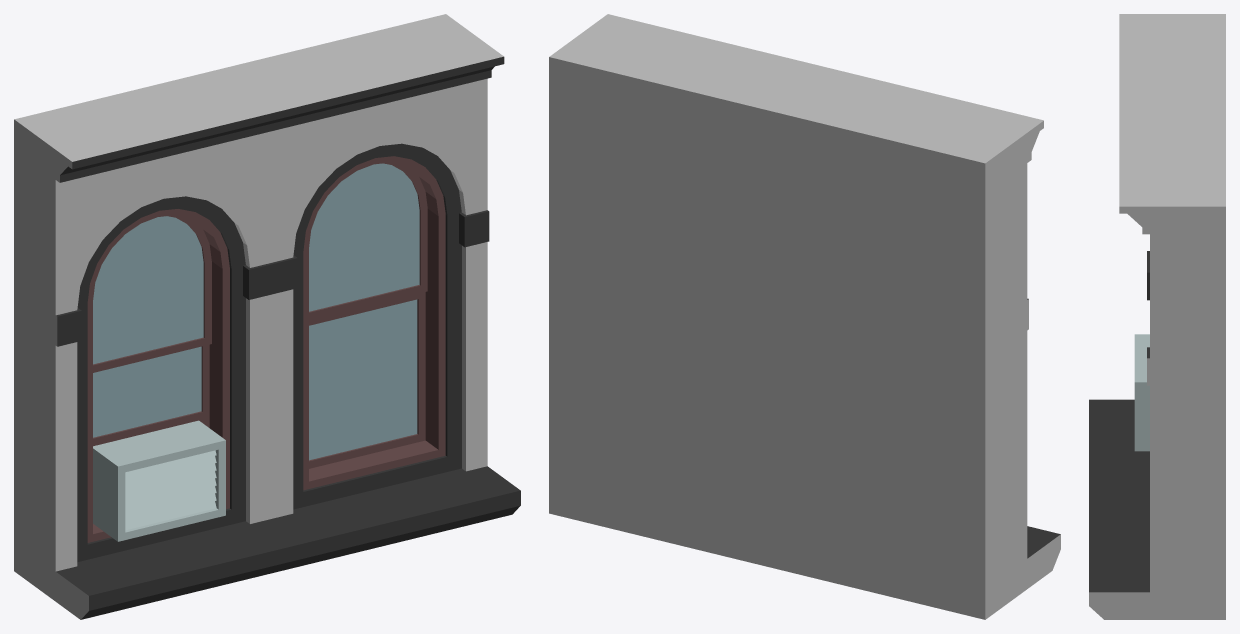
File: WindowsTile2.fbx
3 views of the same model, side by side, from view 1: azimuth 30°, elevation 25°; view 2: azimuth 150°, elevation 25°; view 3: azimuth 270°, elevation 25° (orthographic). The views are drawn at different scales.
Parts seen in each view (by area): view 1: Tile10; view 2: Tile10; view 3: Tile10.
Boxes of the visible parts, x1,y1,x2,y2 form: Tile10: [14, 14, 520, 619]; Tile10: [549, 14, 1060, 619]; Tile10: [1089, 14, 1225, 619].
Size of the model in its own units: 3 by 3 by 0.9.
